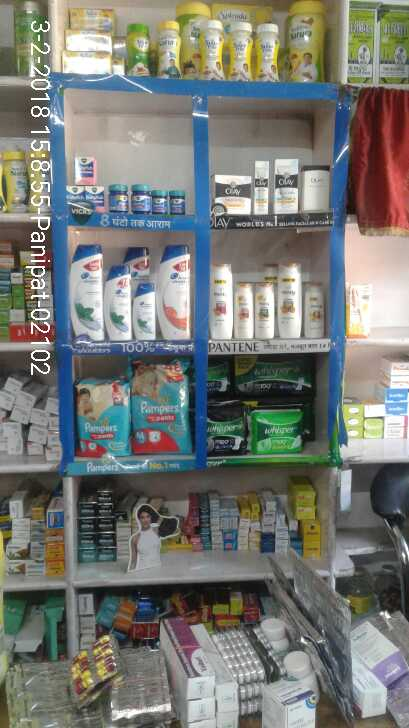beauty: (67, 235, 110, 343), (156, 243, 194, 345), (272, 259, 301, 340), (208, 172, 250, 220), (105, 265, 130, 344), (209, 264, 233, 343), (231, 274, 254, 343), (300, 280, 325, 342), (275, 155, 299, 214), (134, 283, 158, 334), (304, 164, 329, 209), (253, 281, 273, 337), (249, 154, 267, 215)
pharmacy: (69, 372, 129, 463), (133, 364, 191, 455), (206, 401, 246, 454), (256, 409, 300, 454), (67, 147, 99, 189), (129, 179, 149, 218), (171, 189, 192, 218), (151, 190, 171, 218), (110, 178, 125, 214)
